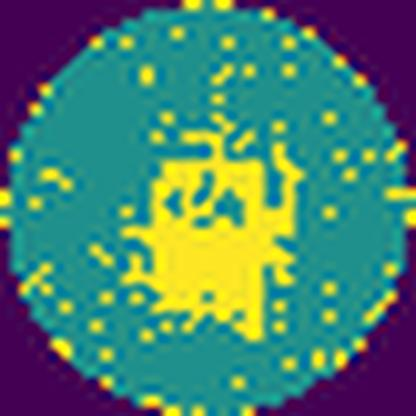Center: (124, 128, 296, 346)
